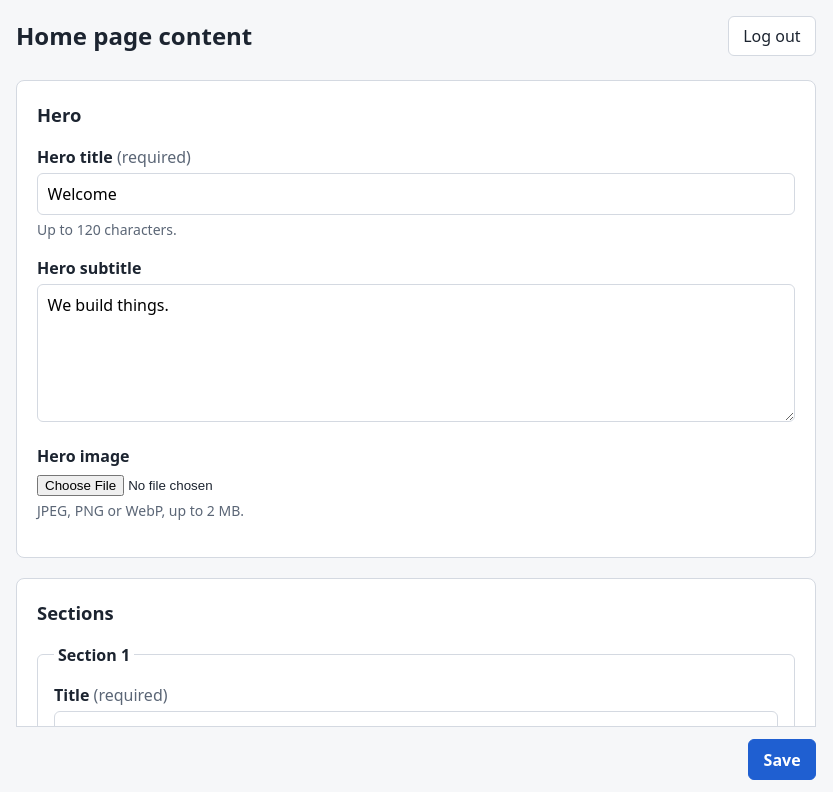
Test: Save › server error on save → error message, edits kept
Step 1. Replace the text in the field labelled "Hero title (required)" with "Unsaved" → (416, 194), box x1=37 y1=173 x2=795 y2=215
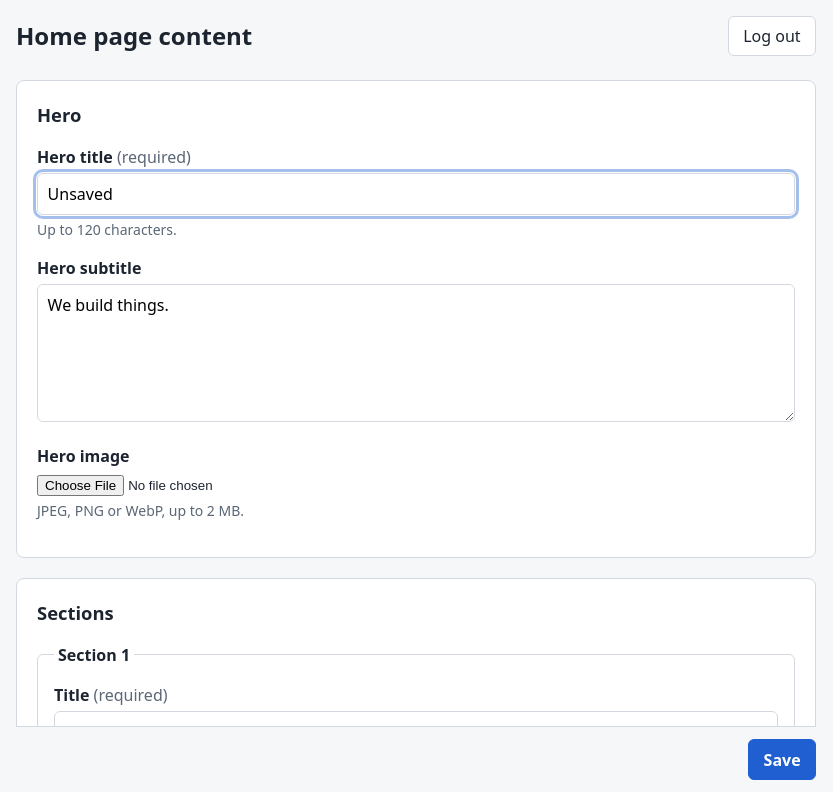
Step 2. Click the button "Save" → (782, 760), box x1=748 y1=740 x2=816 y2=780
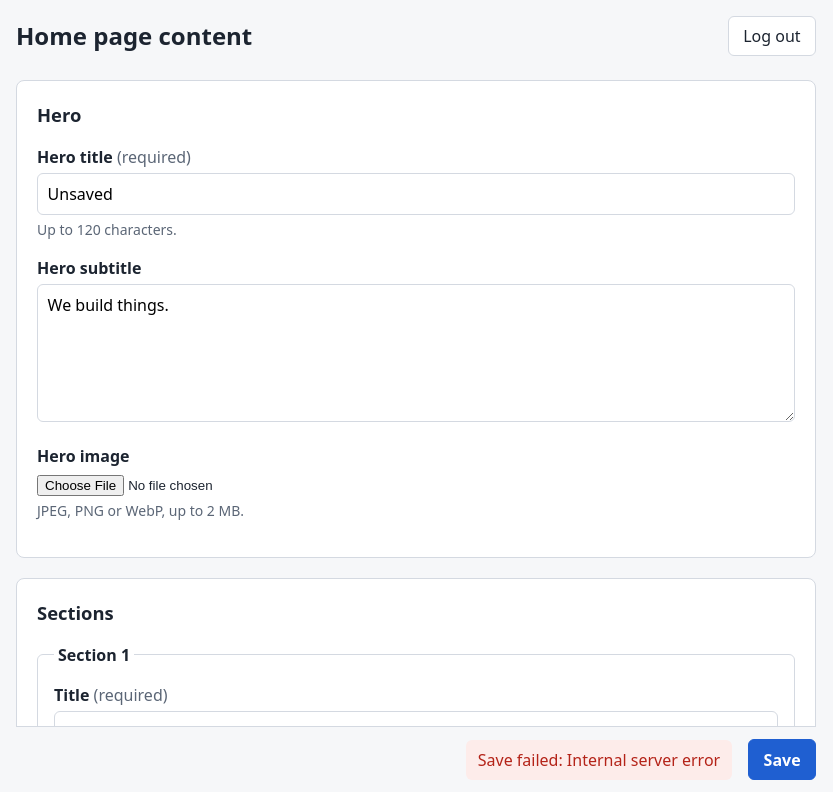
Now the message reads "Save failed: Internal server error", box x1=478 y1=749 x2=720 y2=771
